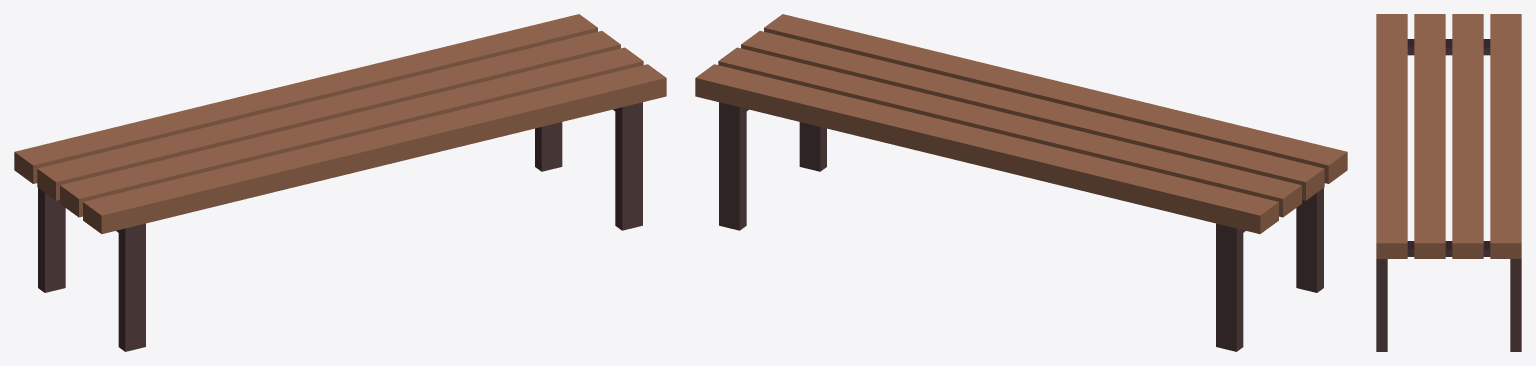
File: Bench2.fbx
3 views of the same model, side by side, from view 1: azimuth 30°, elevation 25°; view 2: azimuth 150°, elevation 25°; view 3: azimuth 270°, elevation 25° (orthographic). The views are drawn at different scales.
Parts seen in each view (by area): view 1: Bench2; view 2: Bench2; view 3: Bench2.
Part boxes in pixels (x1,y1,x2,y2): Bench2: [14, 14, 666, 351]; Bench2: [695, 14, 1347, 351]; Bench2: [1376, 14, 1521, 351].
Bounding box in the file's own units: 2.39 × 0.5737 × 0.6392.
